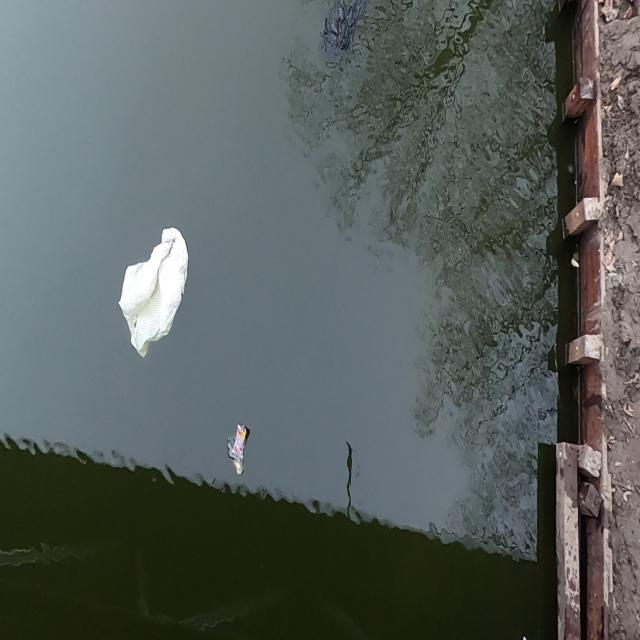Sac plastique: (110, 215, 193, 372), (317, 0, 369, 75), (223, 413, 252, 492)
